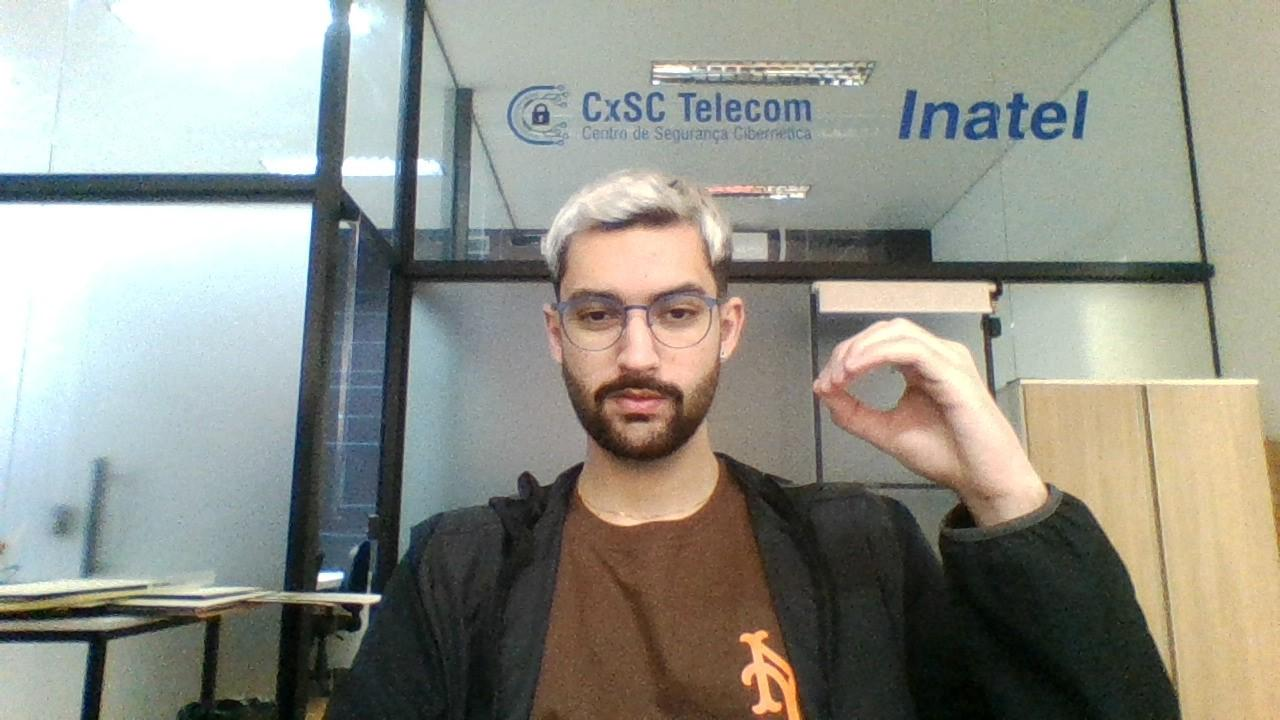O: (808, 314, 1020, 492)
